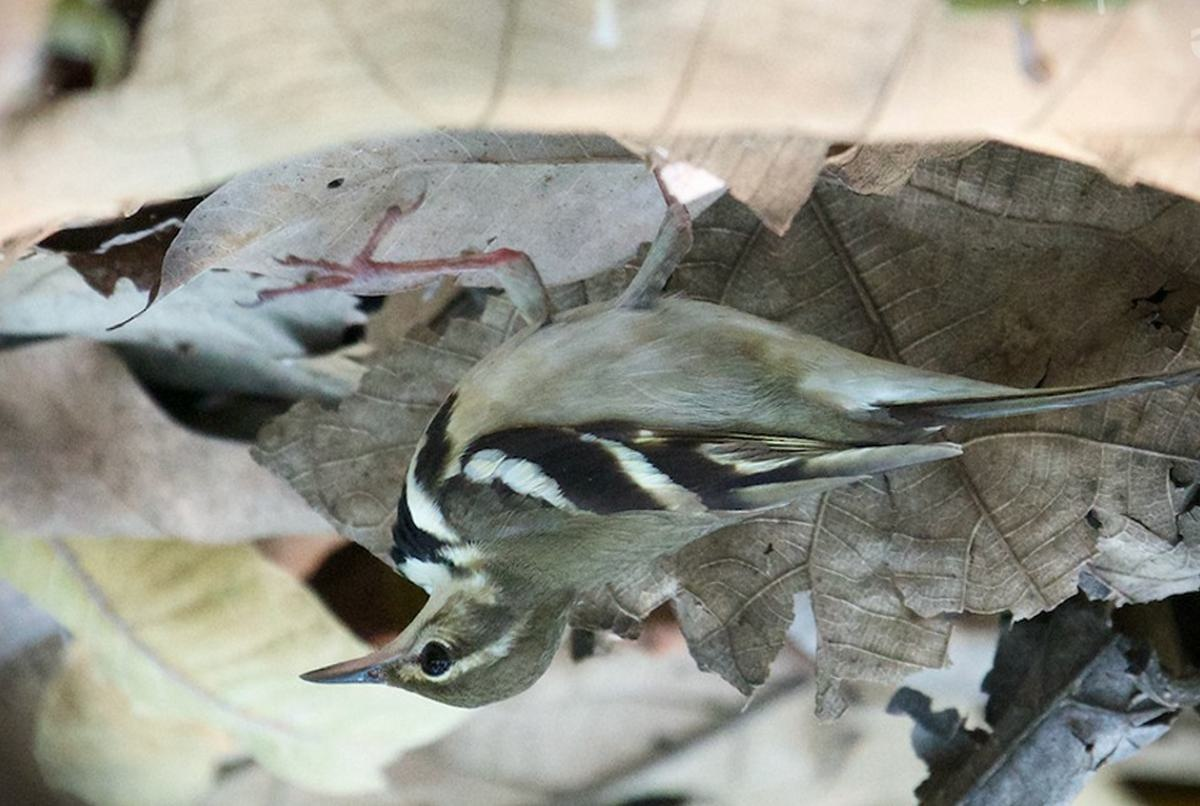wagtail: (323, 268, 1018, 710)
